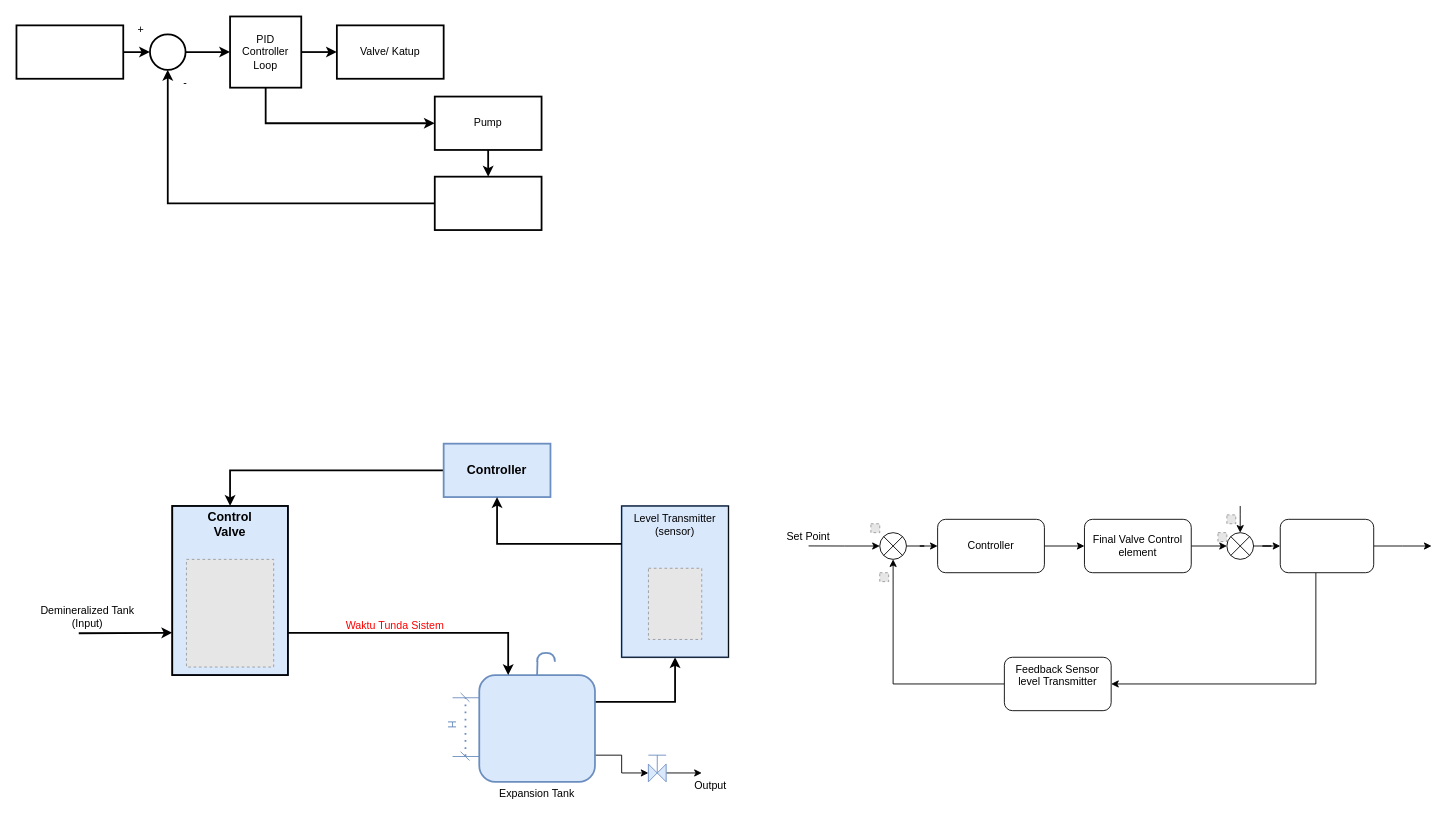
Some shapes in this 1454 by 823 pixel diagram are drawn without their labels. Grey dashed boxes stand in for pictures. Here are the shapes that lost their labels. From the top down, the centre of each, then its label:
At (69,51): "INPUT Sensor Suhu".
At (487,203): "Sensor Level 1".
At (1326,545): "Process".
